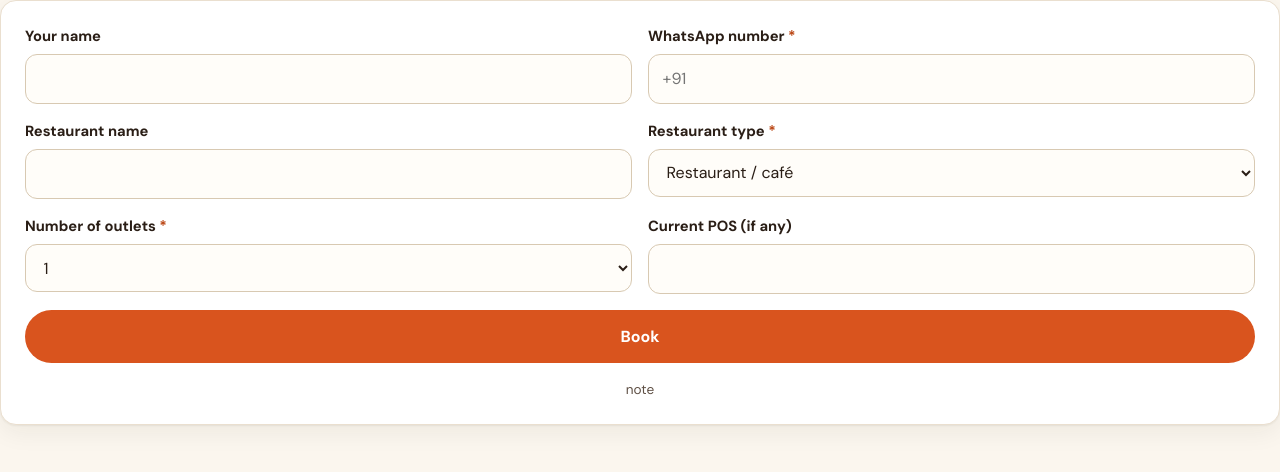
Test: <LeadForm variant="demo"> › blocks submit without a contact method
This screenshot has width=1280, height=472.
Click the button "Book" at (640,336), box [25,310,1255,362]
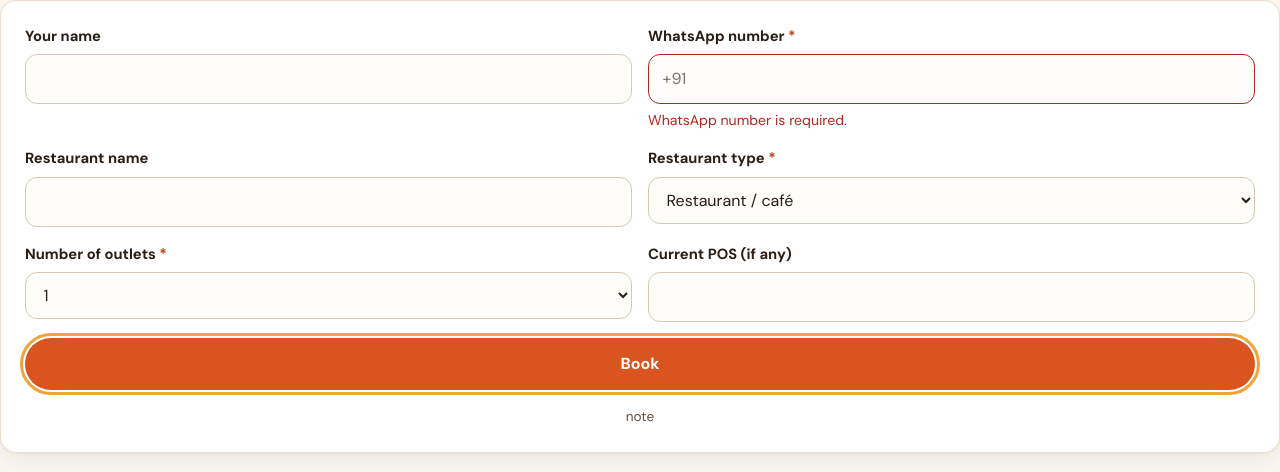
Now the message shows "WhatsApp", box [648,111,847,129]
